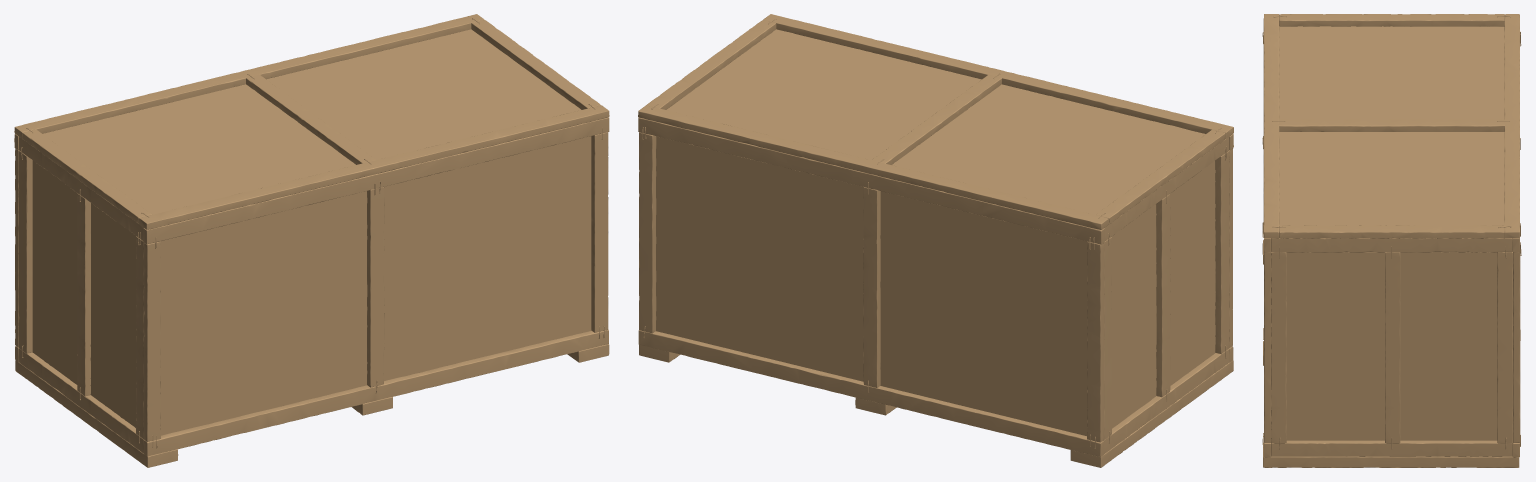
The model's file is crate_plywood_b03.glb.
3 views of the same model, side by side, from view 1: azimuth 30°, elevation 25°; view 2: azimuth 150°, elevation 25°; view 3: azimuth 270°, elevation 25° (orthographic). The views are drawn at different scales.
Bounding box in the file's own units: 2.01 × 1.02 × 1.01.
